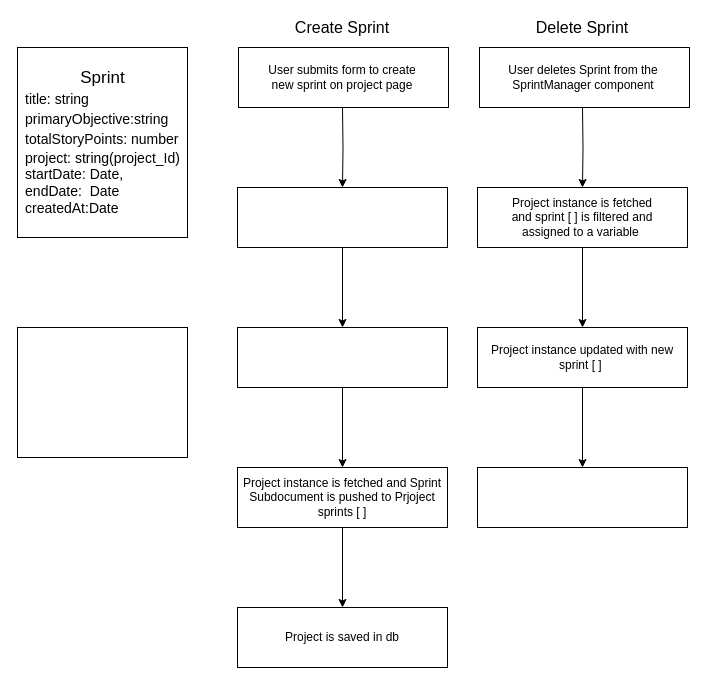
Image size: 707x685. Some labels were removed from this diagram. Here are the shapes that lost their labels. From the top down, the centre of each, then its label:
the point at 342,217: Sprint is saved to sprints collection in db
the point at 342,357: Subdoc of sprint is created from instance of Sprint
the point at 102,392: Sprint SubDoc title: string startDate: Date, endDate: Date
the point at 582,497: Sprint is deleted
